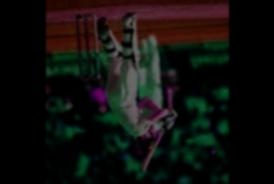batsman: (92, 7, 164, 182)
